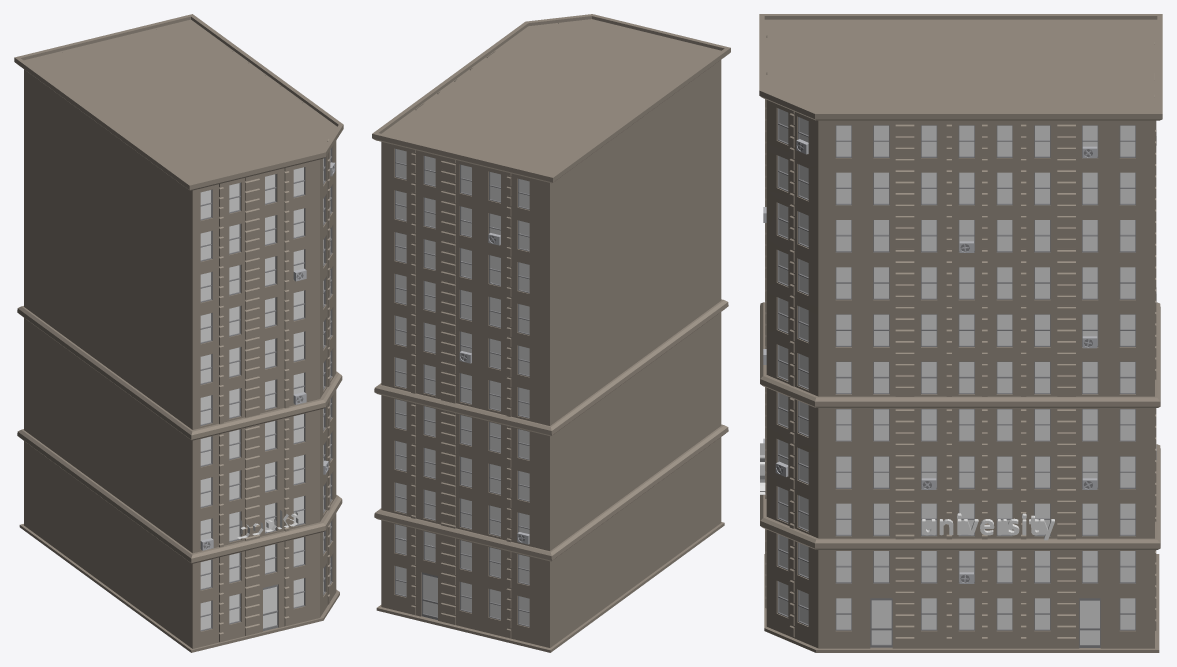
The picture shows the model from 3 angles, left to right: view 1: azimuth 30°, elevation 25°; view 2: azimuth 150°, elevation 25°; view 3: azimuth 270°, elevation 25°; orthographic projection. The views are drawn at different scales.
Parts seen in each view (by area): view 1: Building_09; view 2: Building_09; view 3: Building_09, Sign09_1.
Part boxes in pixels (box(x1,y1,x2,y2)): Building_09: box(14, 14, 343, 652); Building_09: box(372, 14, 730, 652); Building_09: box(759, 14, 1162, 652); Sign09_1: box(760, 443, 1054, 540).
Size of the model in its own units: 1014 by 2555 by 1726.
